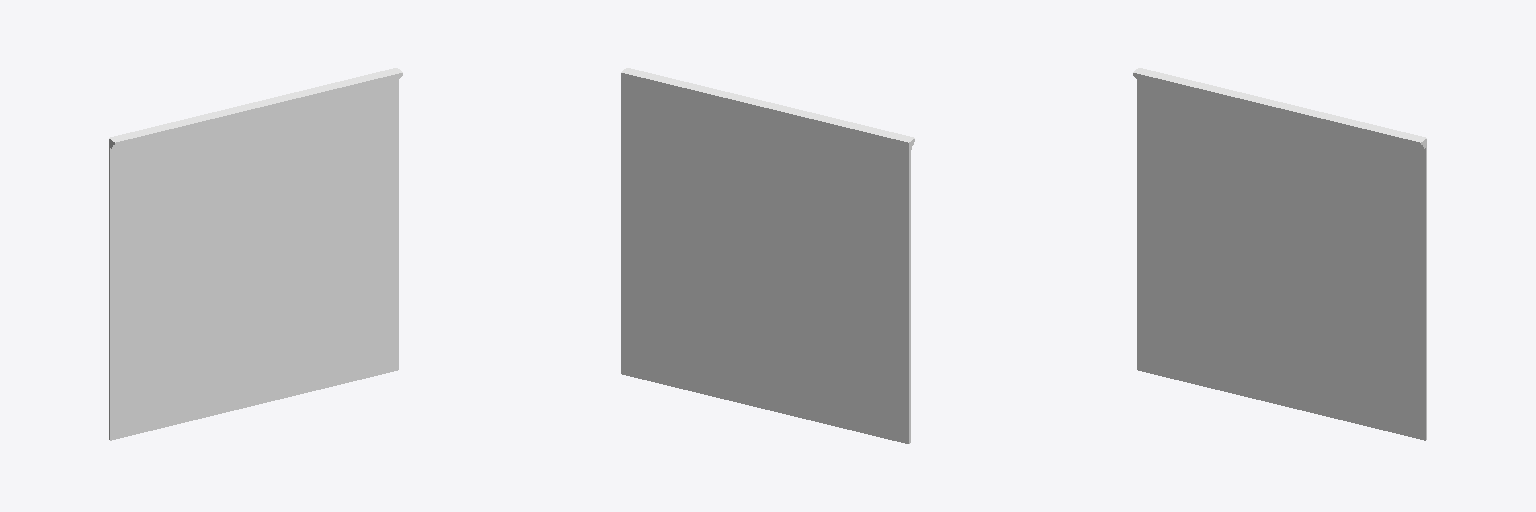
File: mur_plafond.obj
3 views of the same model, side by side, from view 1: azimuth 30°, elevation 25°; view 2: azimuth 150°, elevation 25°; view 3: azimuth 330°, elevation 25° (orthographic).
Size of the model in its own units: 100 by 100 by 4.